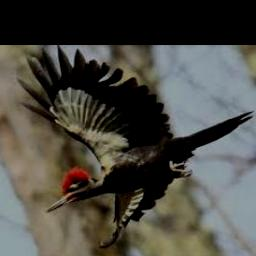Woodpecker: (17, 45, 254, 247)
